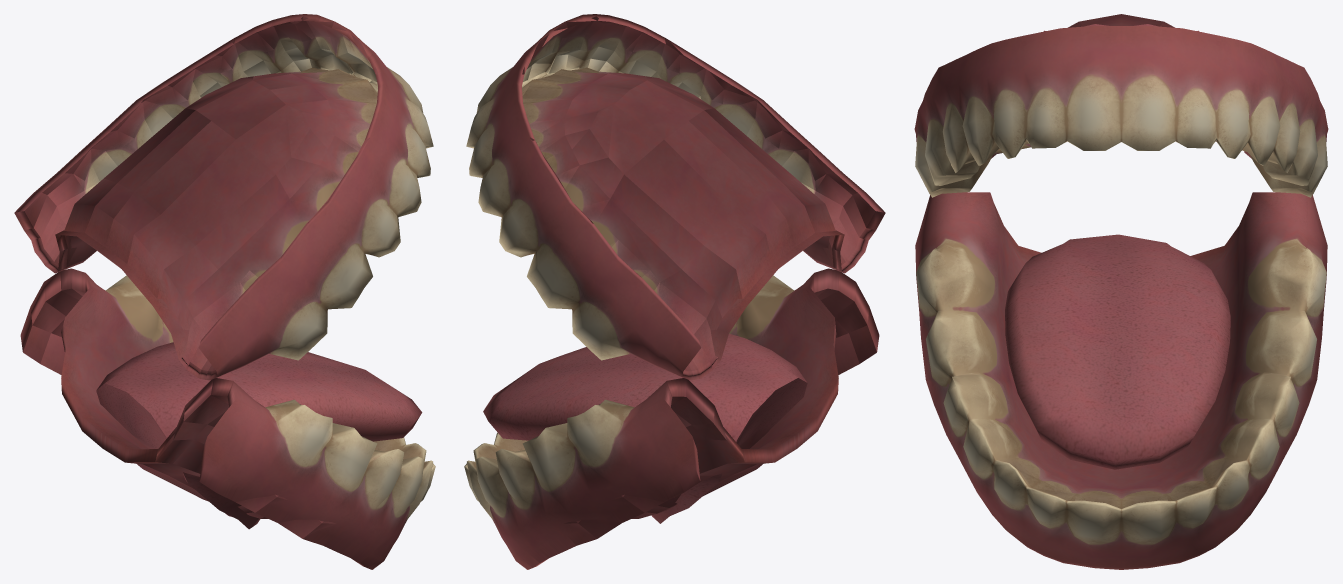
The model's file is mouth_teeth.fbx.
The picture shows the model from 3 angles, left to right: view 1: azimuth 30°, elevation 25°; view 2: azimuth 150°, elevation 25°; view 3: azimuth 270°, elevation 25°; orthographic projection. The views are drawn at different scales.
Visible parts, largest first — view 1: Plane.006, Plane.005, Plane.001; view 2: Plane.006, Plane.005, Plane.001; view 3: Plane.005, Plane.006, Plane.001.
Part boxes in pixels (x1=…): Plane.006: x1=14, y1=14, x2=433, y2=380; Plane.005: x1=20, y1=268, x2=435, y2=569; Plane.001: x1=96, y1=342, x2=422, y2=529; Plane.006: x1=466, y1=14, x2=885, y2=380; Plane.005: x1=464, y1=268, x2=879, y2=569; Plane.001: x1=483, y1=333, x2=807, y2=523; Plane.005: x1=915, y1=192, x2=1327, y2=569; Plane.006: x1=914, y1=14, x2=1328, y2=197; Plane.001: x1=1005, y1=234, x2=1230, y2=469.
Size of the model in its own units: 63.65 by 101 by 68.8.
1 material, 1 textured.
